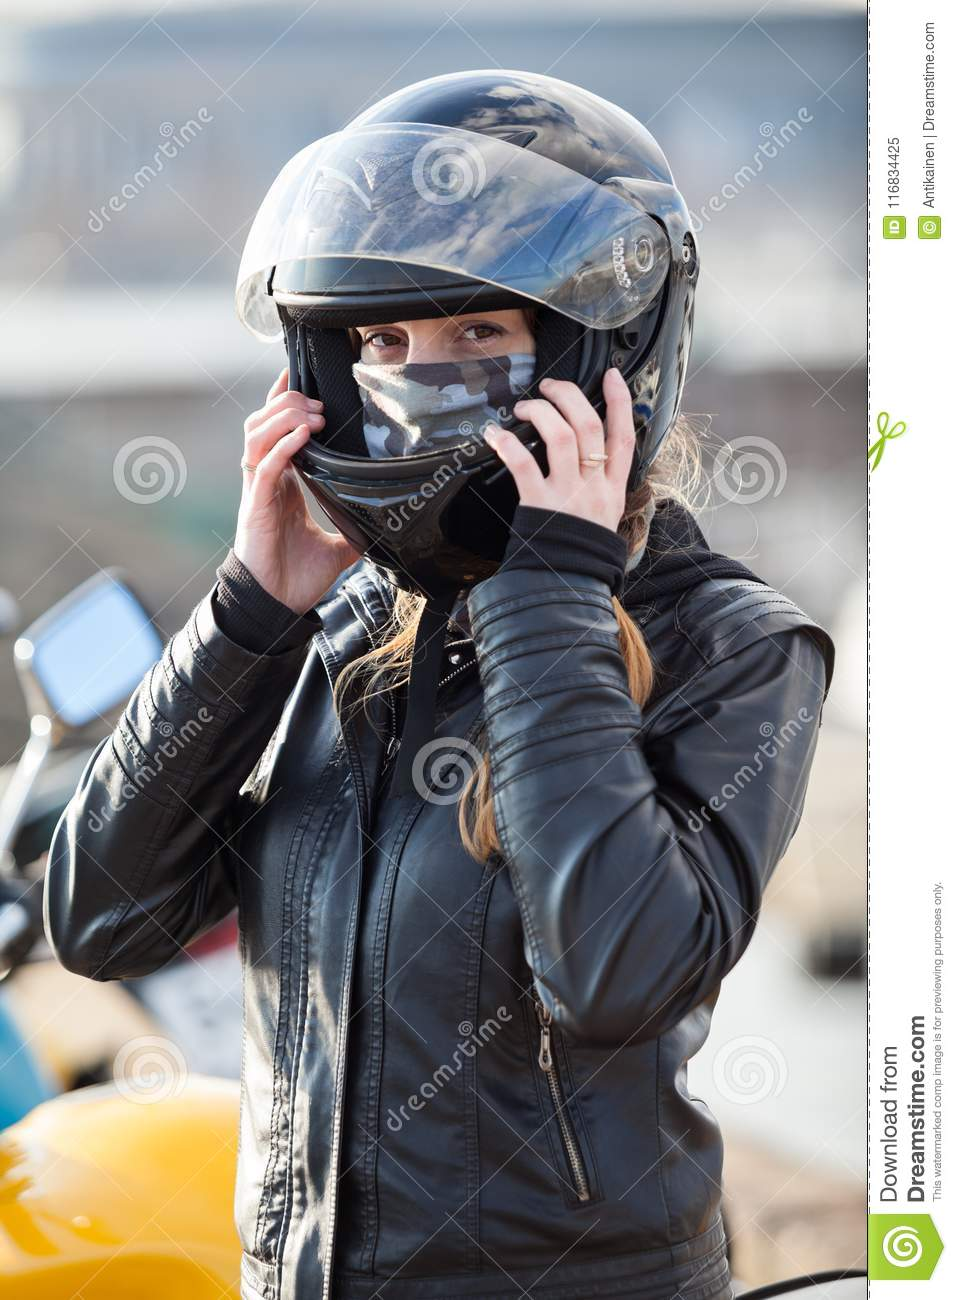helmet: (262, 93, 690, 551)
